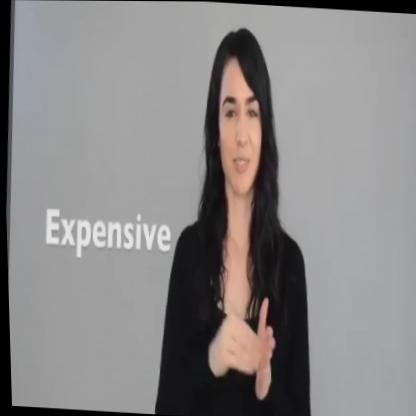Expensive: (202, 287, 284, 401)
